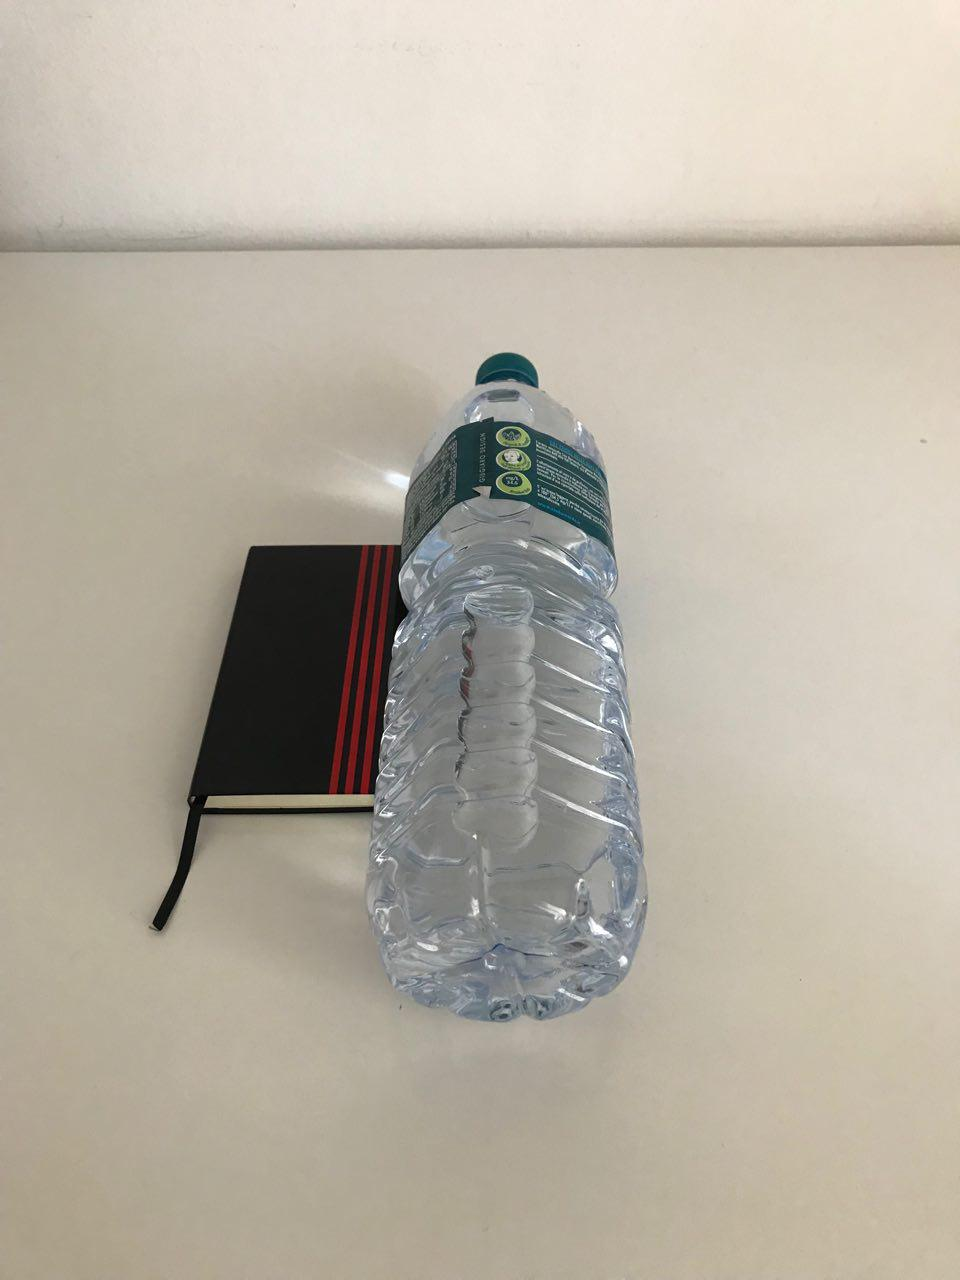san_bernardo: (361, 350, 650, 1025)
